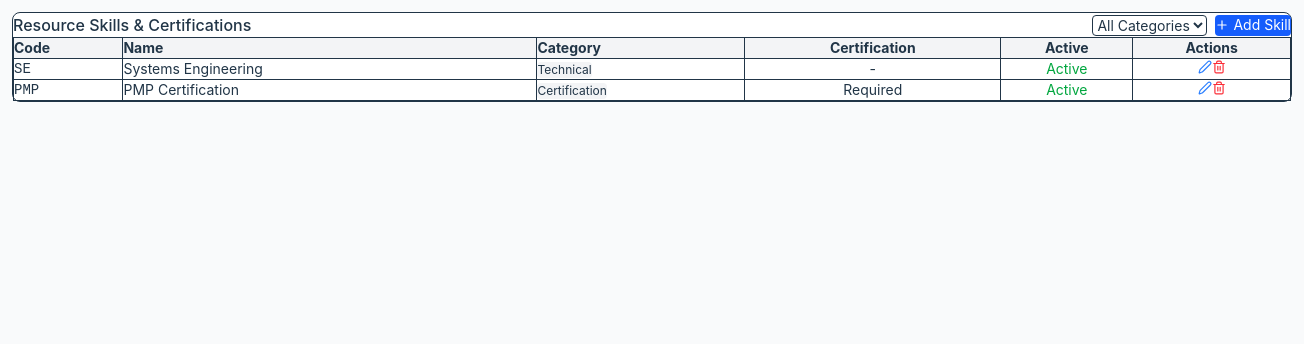
SkillsPanel › opens create form
Click the button "Add Skill" at {"x": 1253, "y": 25}, box [1215,14,1291,36]
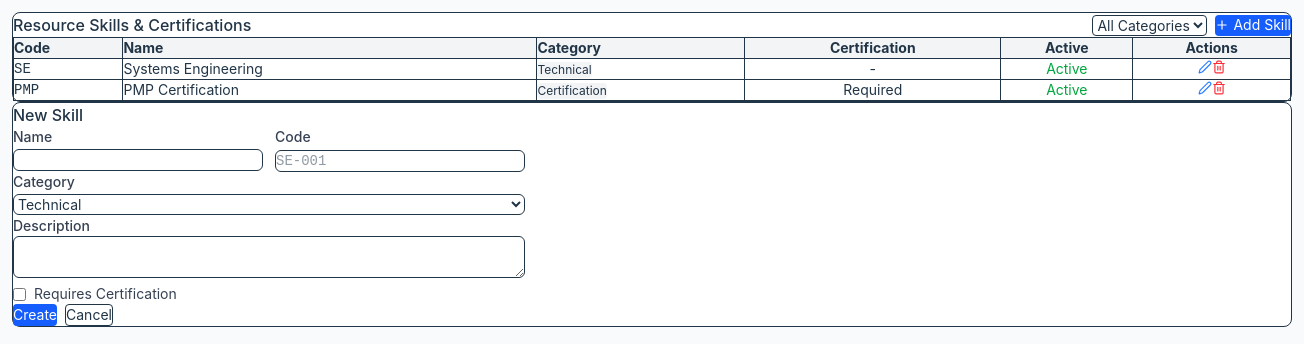
Result: the heading "New Skill" is shown at [13,105,83,125]
Result: the field labelled "Name" is shown at [13,149,263,171]
Result: the field labelled "Code" is shown at [275,150,525,172]
